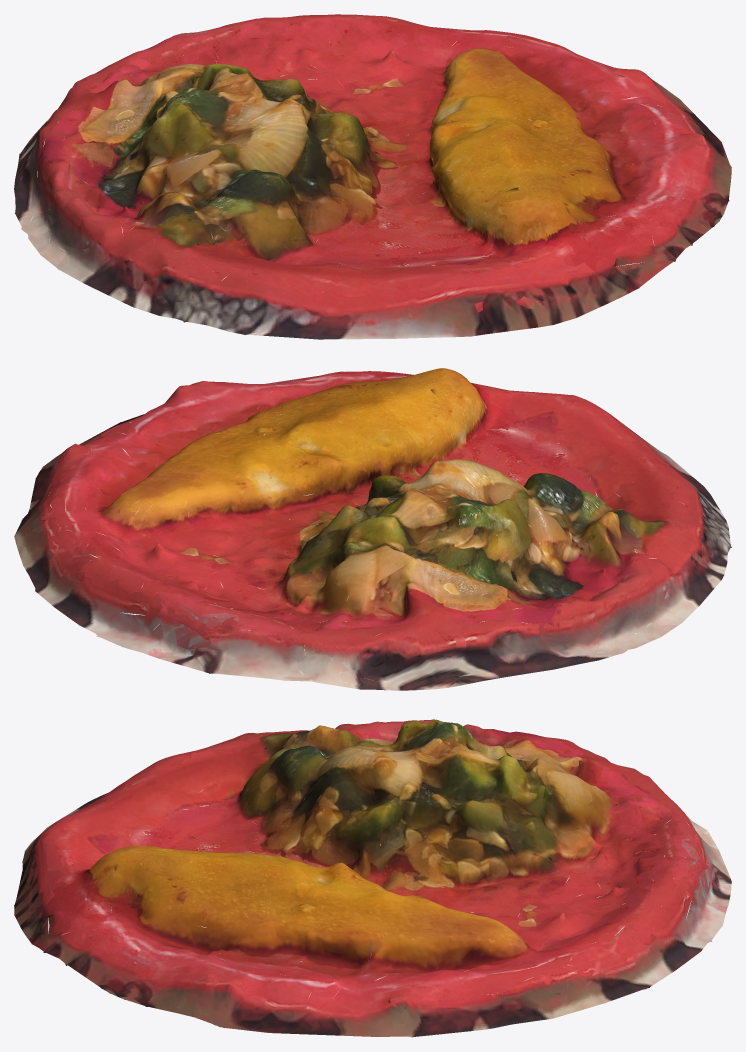
The model's file is Pescado.gltf.
3 views of the same model, one above another, from view 1: azimuth 30°, elevation 25°; view 2: azimuth 150°, elevation 25°; view 3: azimuth 270°, elevation 25° (orthographic).
Parts seen in each view (by area): view 1: texturedMesh; view 2: texturedMesh; view 3: texturedMesh.
Boxes of the visible parts, x1,y1,x2,y2 form: texturedMesh: (14,14,731,339); texturedMesh: (14,368,731,690); texturedMesh: (14,719,731,1037).
Bounding box in the file's own units: 0.9065 × 0.1537 × 0.9012.
Materials: 2 (2 with a texture image).
